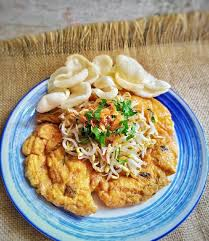Tahu telor: (20, 92, 188, 218)
